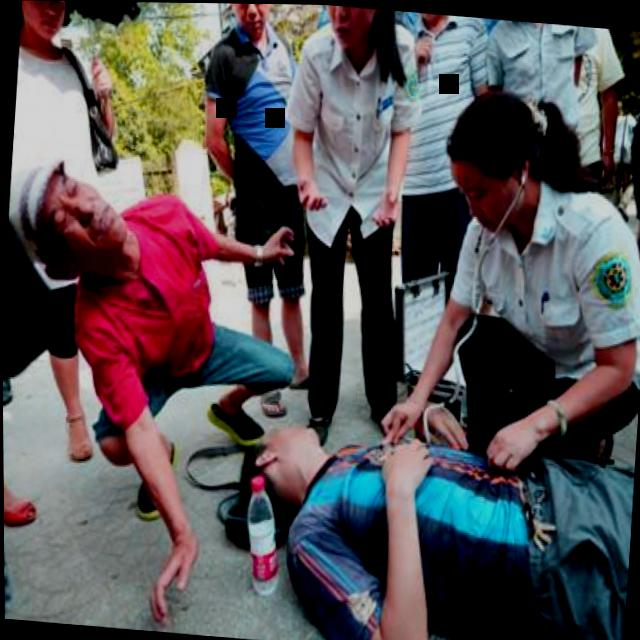Fall-Detected: (223, 371, 639, 640)
